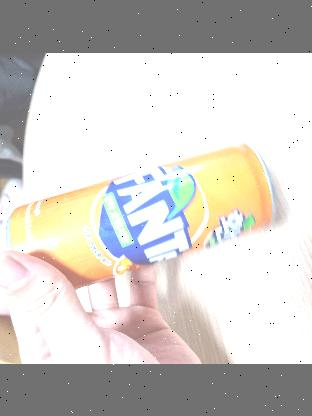Can: (11, 141, 275, 278)
